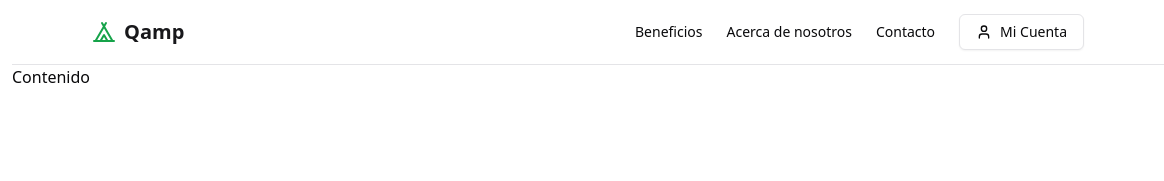
Test: Menú del encabezado por rol (Issue 15.2) › cerrar sesión elimina el token y vuelve a mostrar "Iniciar Sesión"
This screenshot has width=1164, height=181.
Step 1. Press Enter in the button "Mi Cuenta", box top-left (959, 14), bottom-right (1084, 50)
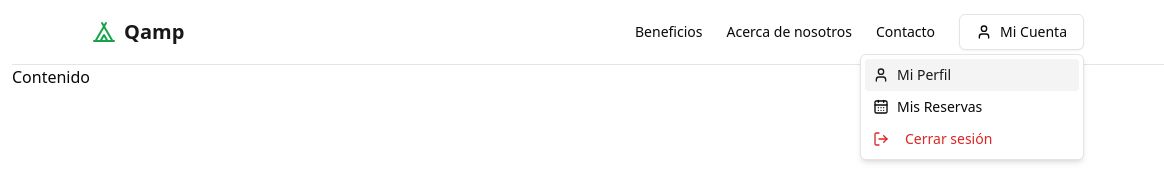
Check: the menu is shown, box top-left (860, 54), bottom-right (1084, 160)
Step 2. Click the menu item "Cerrar sesión" → (933, 138), box top-left (873, 129), bottom-right (992, 148)
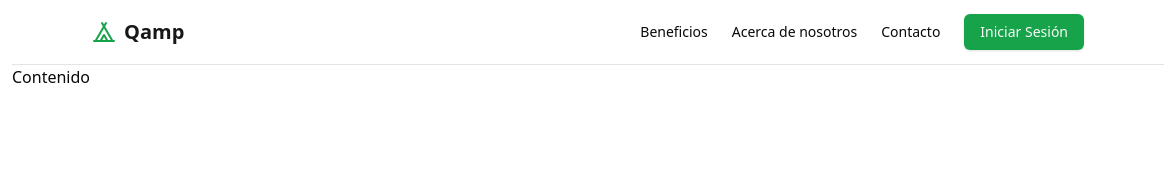
Check: the link "Iniciar Sesión" is shown, box top-left (964, 14), bottom-right (1084, 50)
